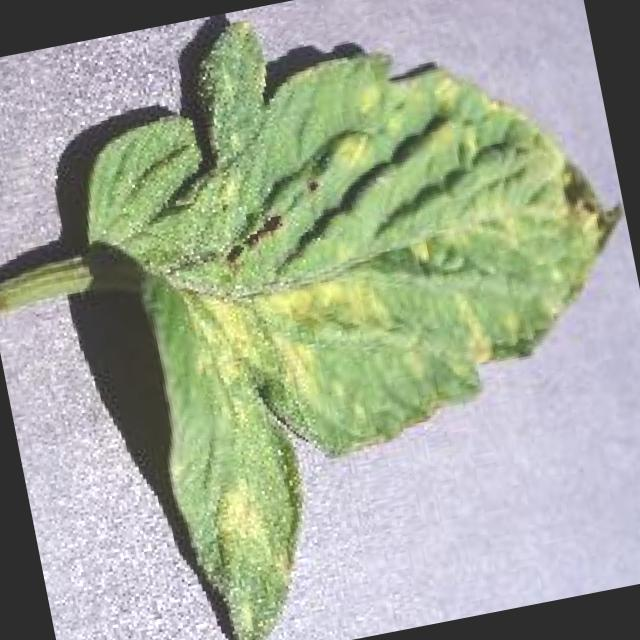leaf mold: (0, 18, 618, 640)
